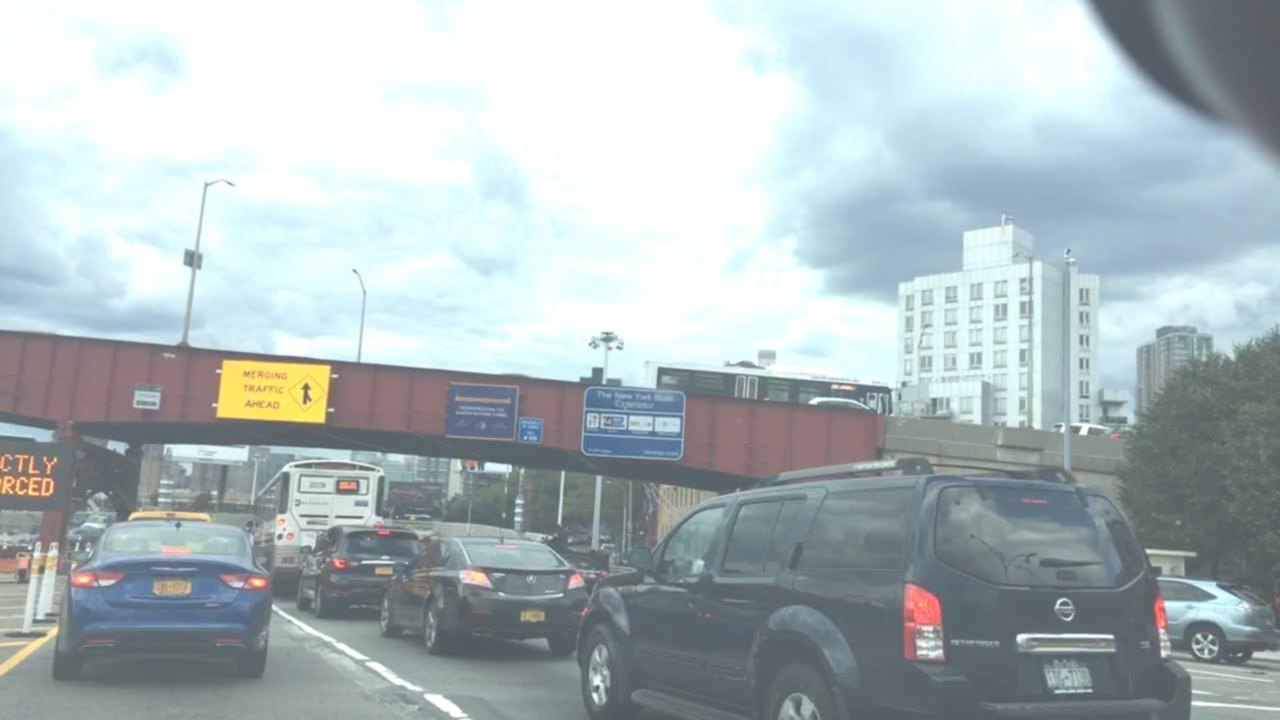Chrysler: (146, 557, 203, 581)
Nissan: (1038, 585, 1088, 628)
acura: (525, 574, 538, 585)
